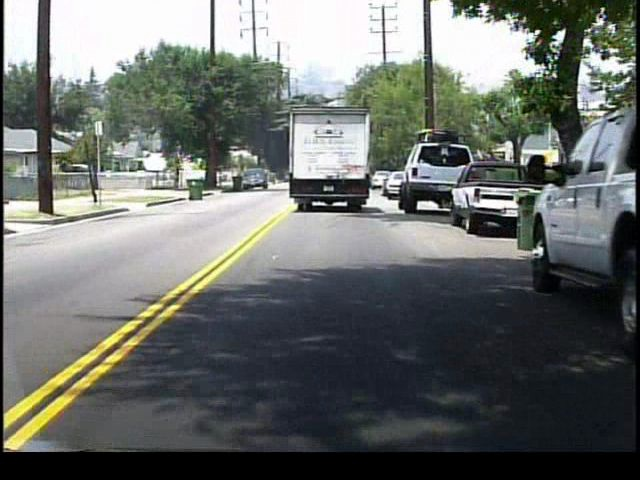person: (174, 165, 185, 190)
